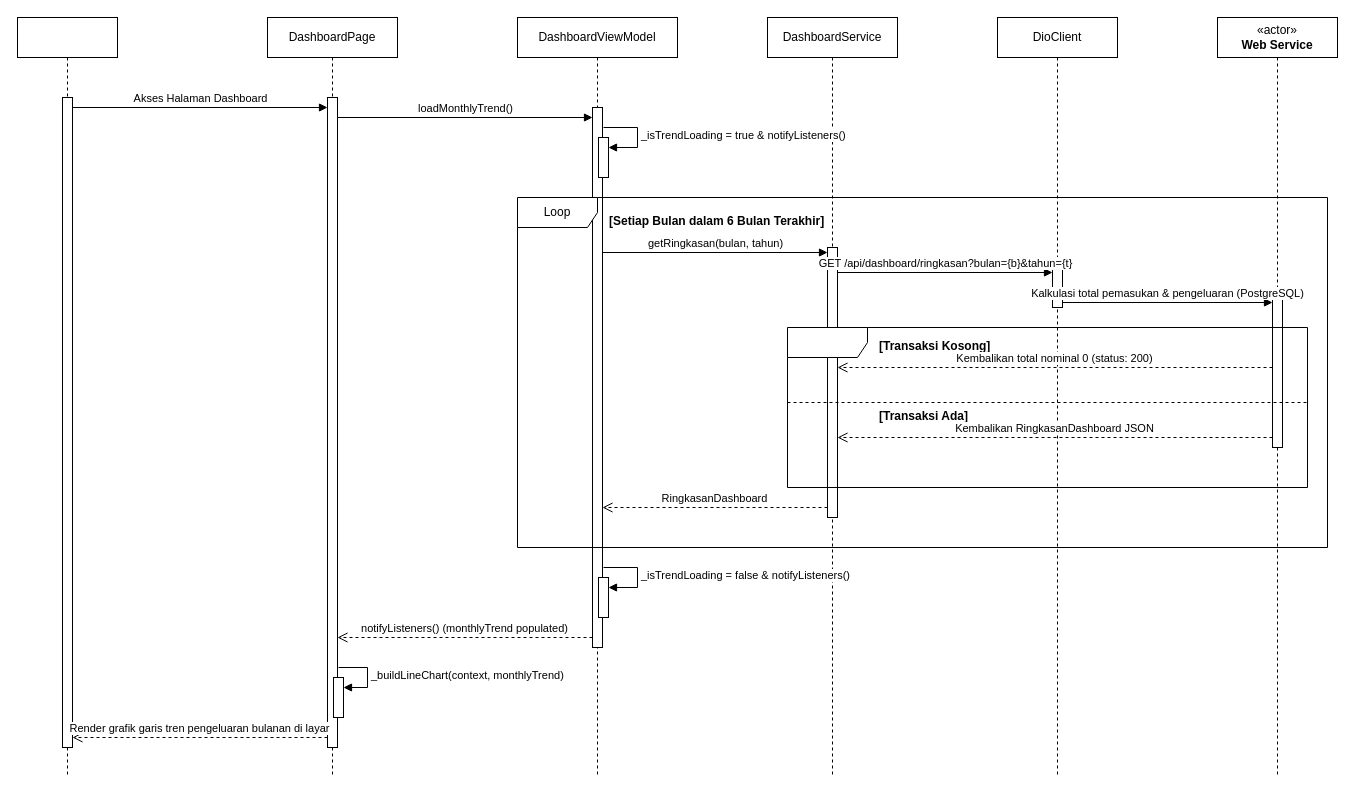
Some shapes in this 1355 by 795 pixel diagram are drawn without their labels. Here are the shapes that lost their labels. From the top down, the box of each, then its label:
(16, 16, 118, 778): «actor» Pengguna
(786, 326, 1308, 488): Alt
